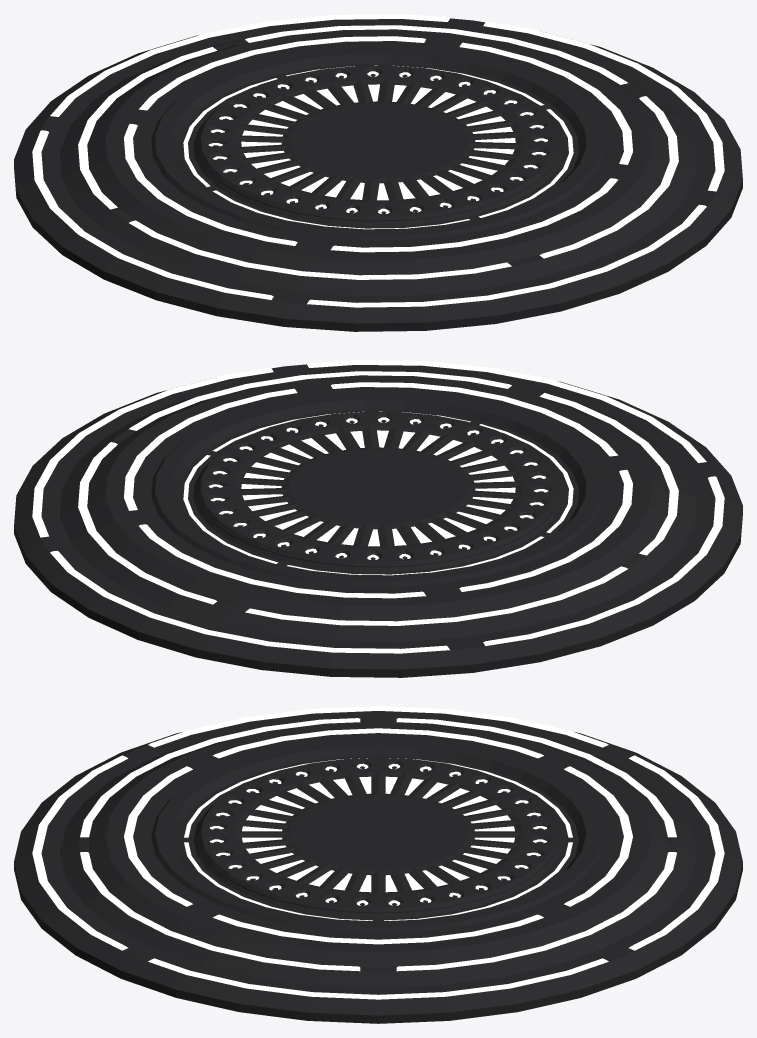
The model's file is showroom3.glb.
3 views of the same model, one above another, from view 1: azimuth 30°, elevation 25°; view 2: azimuth 150°, elevation 25°; view 3: azimuth 270°, elevation 25° (orthographic).
Parts seen in each view (by area): view 1: MediumShowRoom_Foundation, MediumShowRoom_Body; view 2: MediumShowRoom_Foundation, MediumShowRoom_Body; view 3: MediumShowRoom_Foundation, MediumShowRoom_Body.
Part boxes in pixels (box(x1,y1,x2,y2)): MediumShowRoom_Foundation: box(14, 14, 742, 331); MediumShowRoom_Body: box(197, 65, 559, 221); MediumShowRoom_Foundation: box(14, 360, 742, 677); MediumShowRoom_Body: box(197, 411, 559, 567); MediumShowRoom_Foundation: box(14, 706, 742, 1023); MediumShowRoom_Body: box(197, 757, 559, 913).
Bounding box in the file's own units: 10 × 0.56 × 10.
Materials: 1 (1 with a texture image).
